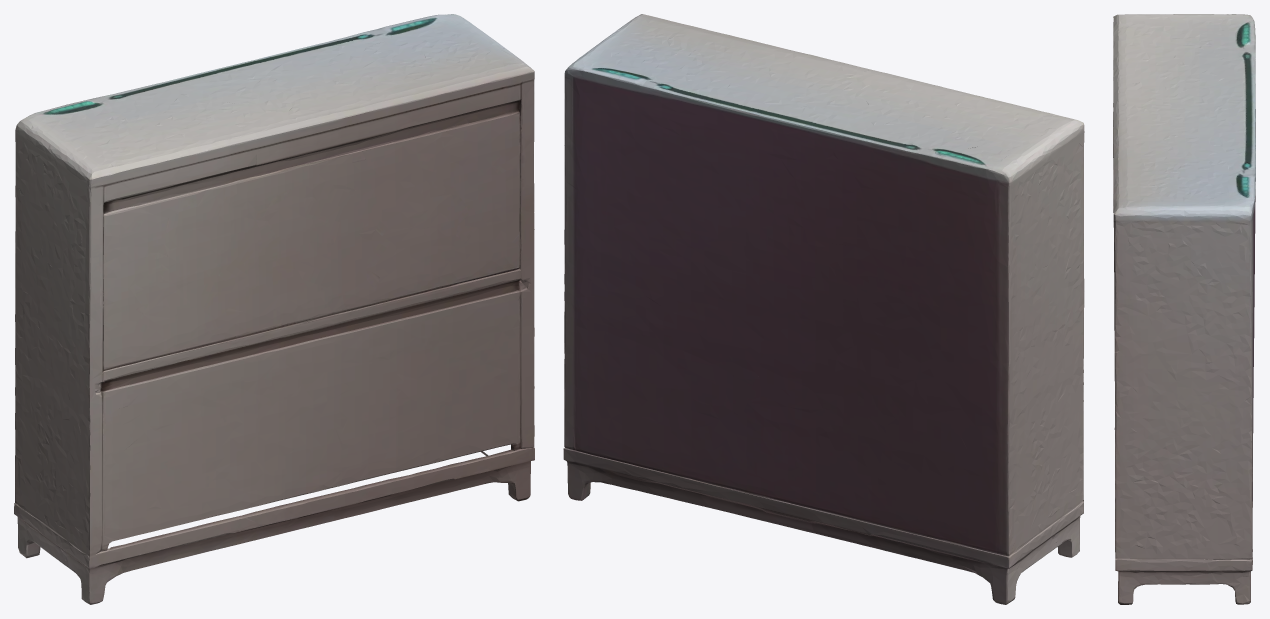
File: ast_3ff4abe05c99.glb
3 renders of one model, left to right at view 1: azimuth 30°, elevation 25°; view 2: azimuth 150°, elevation 25°; view 3: azimuth 270°, elevation 25°, orthographic. The views are drawn at different scales.
Visible parts, largest first — view 1: geometry_0; view 2: geometry_0; view 3: geometry_0.
Boxes of the visible parts, <box> form: geometry_0: <box>14,14,534,604</box>; geometry_0: <box>563,14,1084,604</box>; geometry_0: <box>1113,14,1255,604</box>.
Bounding box in the file's own units: 1 × 0.9357 × 0.3035.
Materials: 1 (1 with a texture image).
